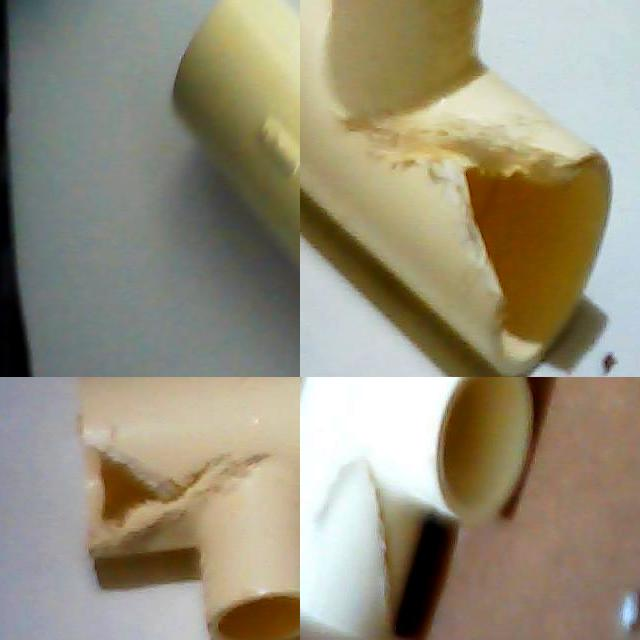Defective: (373, 107, 589, 328), (78, 418, 194, 562), (314, 455, 411, 625)
T Joint: (300, 377, 534, 640), (81, 377, 300, 640), (171, 0, 300, 277)
